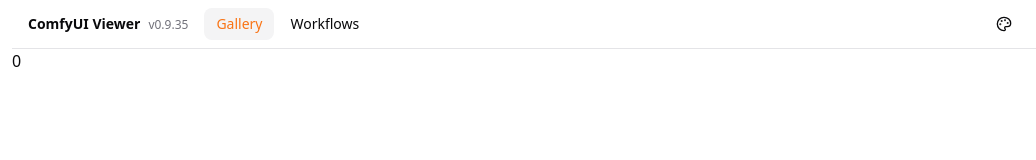
Test: App shell › renders nav links and sends goHome signal when brand is clicked
Expected: the link "Gallery" is shown, 204,8 -> 274,40
Expected: the link "Workflows" is shown, 278,8 -> 371,40
Click the link "ComfyUI Viewer v0.9.35".
click(108, 24)  # box 28,14 -> 188,34
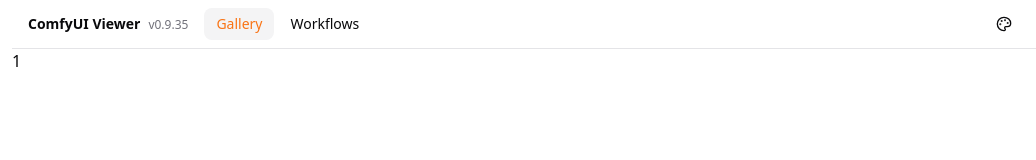
Now the text with test id "go-home-signal" reads "1", box 12,50 -> 21,72
